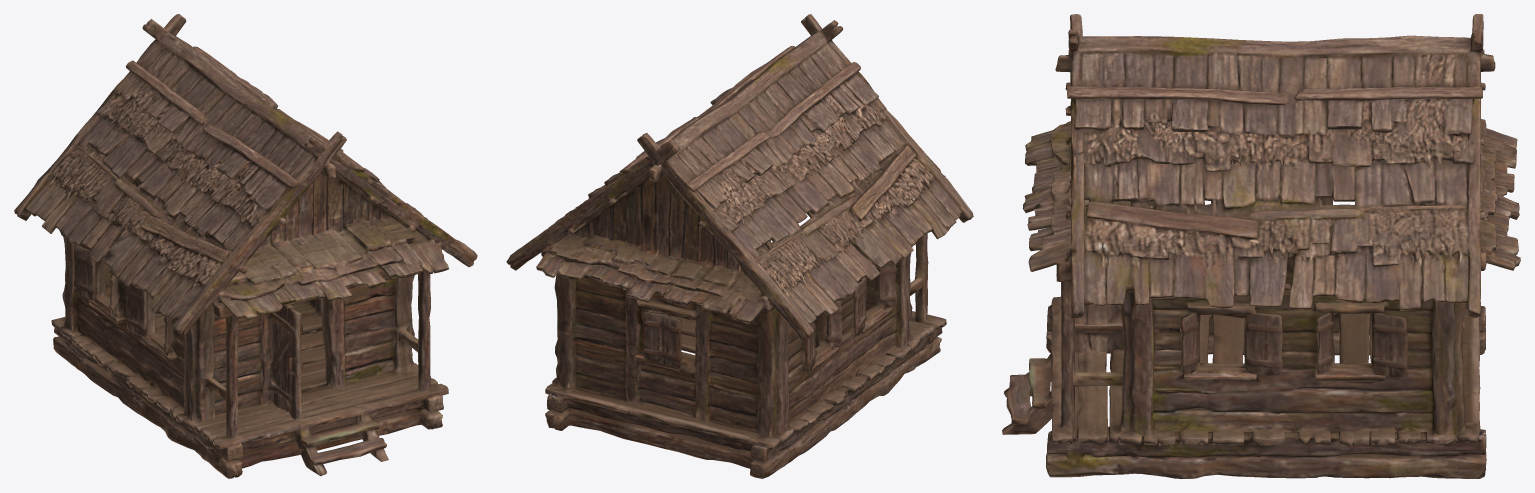
Rendered from a_rustic_wooden_hutstilt_house_3d_model_free.glb.
The picture shows the model from 3 angles, left to right: view 1: azimuth 30°, elevation 25°; view 2: azimuth 150°, elevation 25°; view 3: azimuth 270°, elevation 25°; orthographic projection. The views are drawn at different scales.
Visible parts, largest first — view 1: tripo_node_a756d527-714f-4257-8952-04f54_0; view 2: tripo_node_a756d527-714f-4257-8952-04f54_0; view 3: tripo_node_a756d527-714f-4257-8952-04f54_0.
Part boxes in pixels (x1=…): tripo_node_a756d527-714f-4257-8952-04f54_0: x1=14, y1=14, x2=477, y2=478; tripo_node_a756d527-714f-4257-8952-04f54_0: x1=506, y1=14, x2=973, y2=478; tripo_node_a756d527-714f-4257-8952-04f54_0: x1=1002, y1=14, x2=1520, y2=478.
Size of the model in its own units: 0.8441 by 0.8361 by 1.
1 material, 1 textured.
